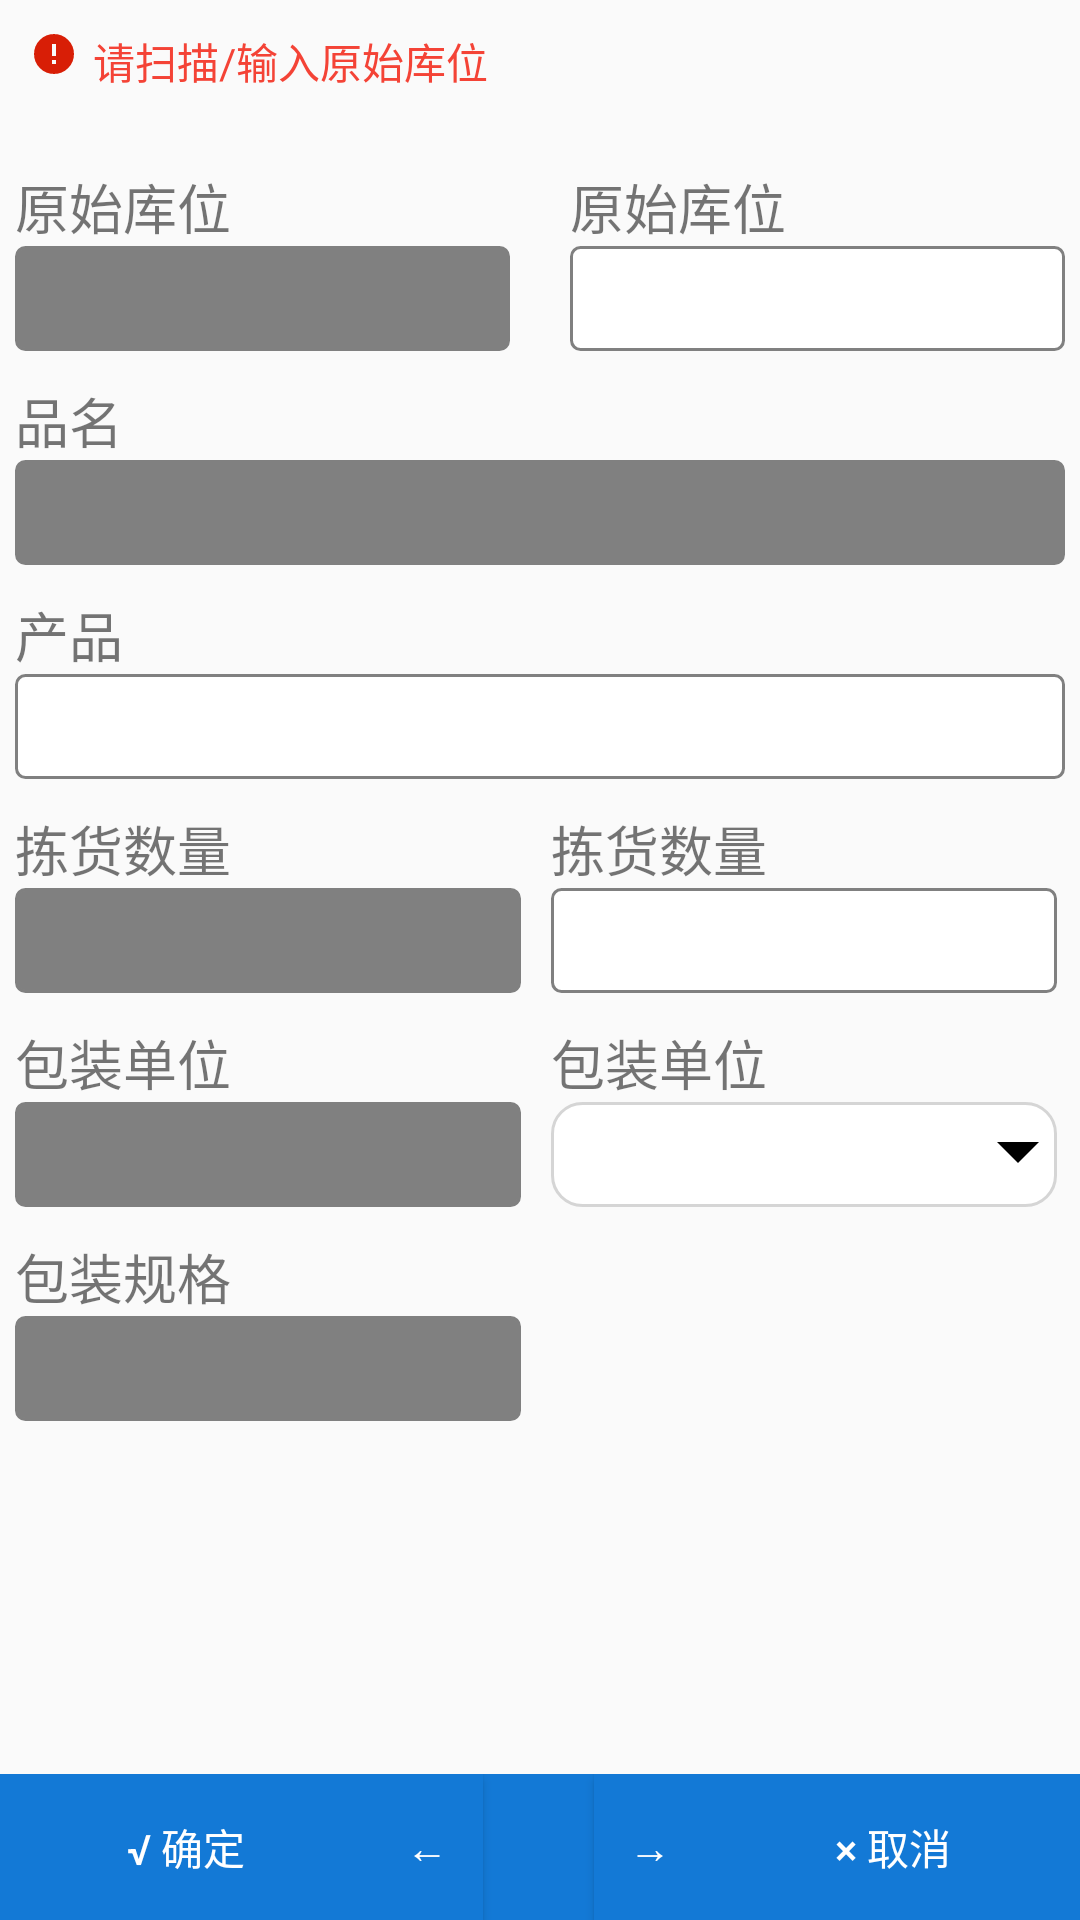

Point at icon controls on the screen. Image size 1080 × 1920, points as [x,y].
error: [54,54]
